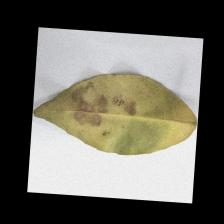black spot: (68, 83, 150, 138)
